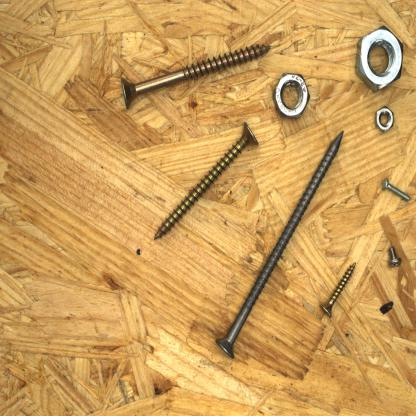screw: (213, 127, 347, 362), (151, 119, 261, 244), (119, 42, 275, 113), (318, 260, 360, 320), (378, 174, 413, 204), (384, 241, 404, 271)
